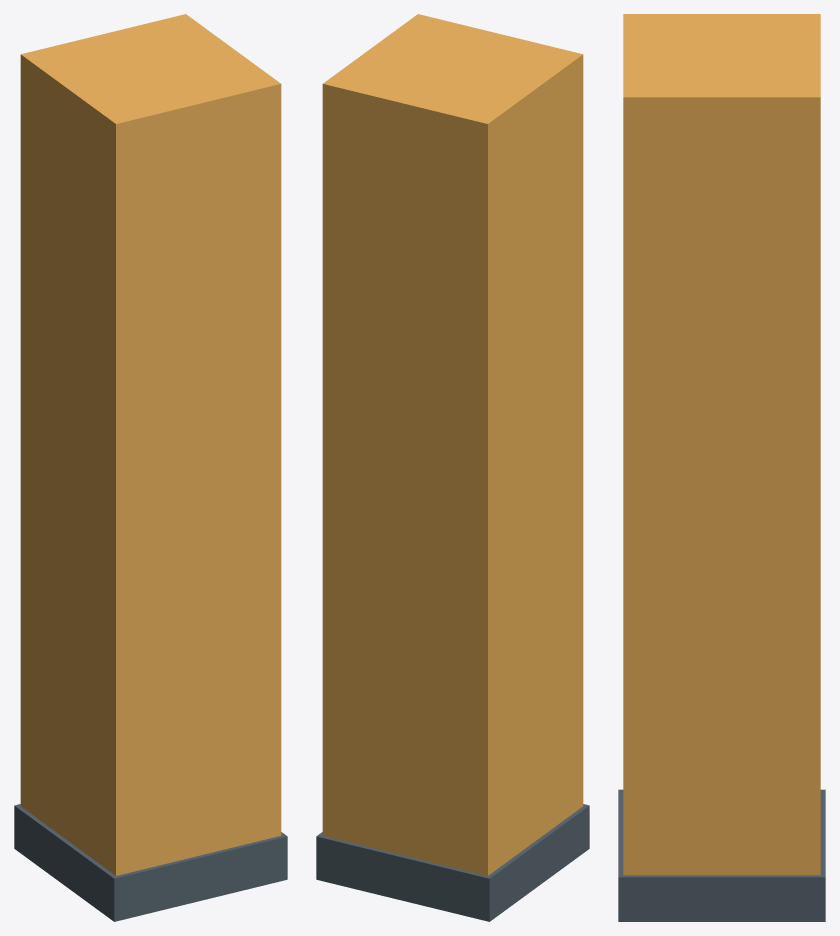
Rendered from american-football-stadium-kit-end-zone-pylon-a4a594cd__22330.glb.
3 views of the same model, side by side, from view 1: azimuth 30°, elevation 25°; view 2: azimuth 150°, elevation 25°; view 3: azimuth 270°, elevation 25° (orthographic). The views are drawn at different scales.
Parts seen in each view (by area): view 1: end-zone-pylon; view 2: end-zone-pylon; view 3: end-zone-pylon.
Boxes of the visible parts, <box> form: end-zone-pylon: <box>14,14,287,921</box>; end-zone-pylon: <box>316,14,589,921</box>; end-zone-pylon: <box>618,14,825,921</box>.
Bounding box in the file's own units: 0.105 × 0.46 × 0.105.
